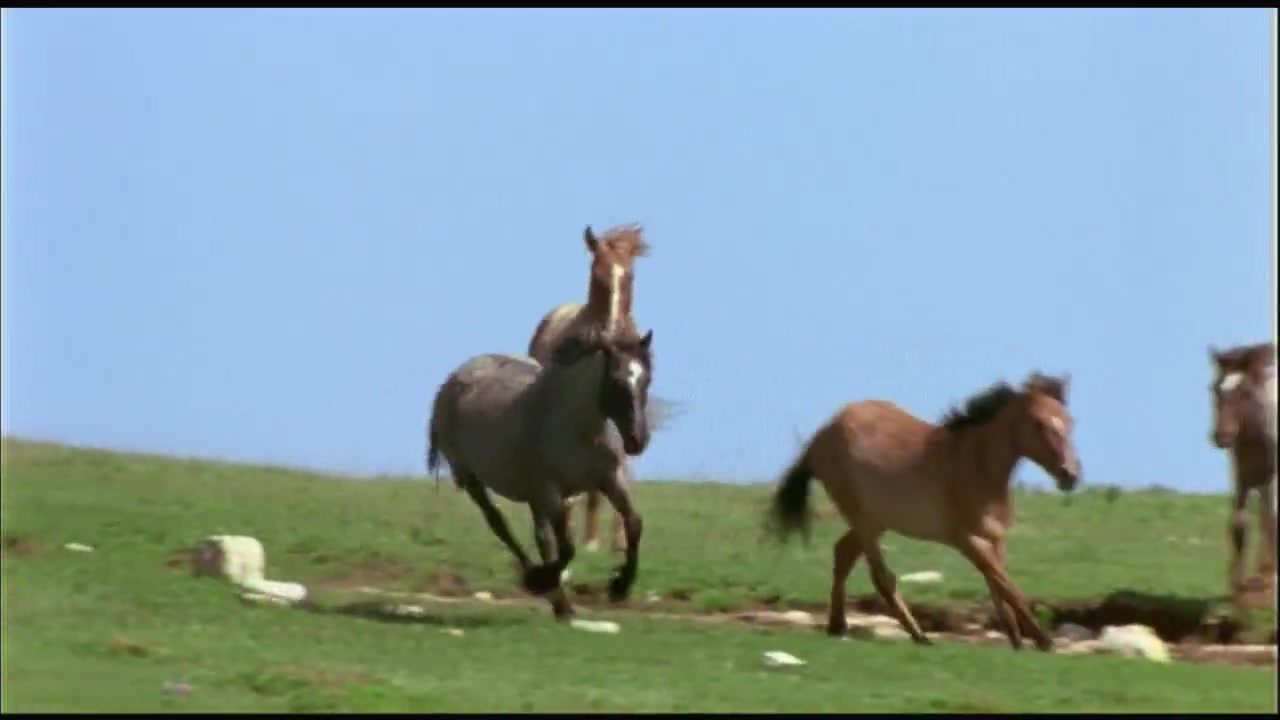horse: (762, 371, 1086, 653)
